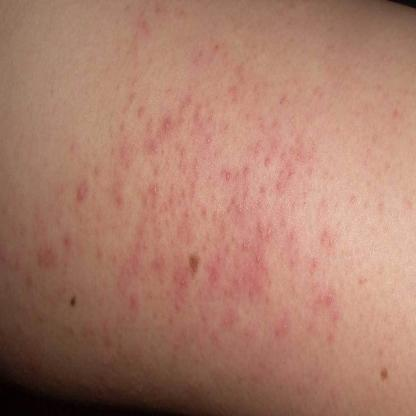Chicken Skin: (61, 6, 346, 366)
